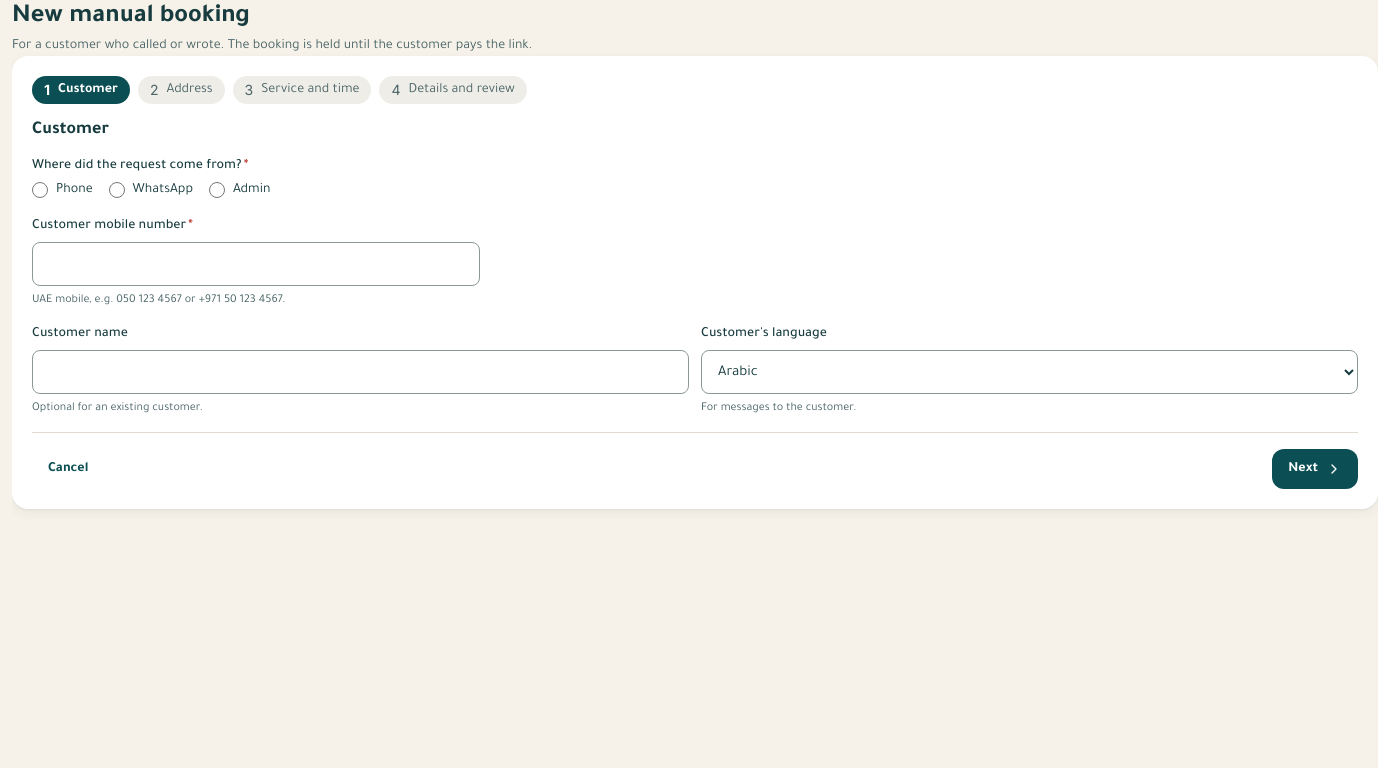
Scenario: A03 manual booking wizard › says so when the lookup stays rate limited after its retries, offers to look up again and holds Next meanwhile
Click the radio button labelled "Phone".
click(40, 190)  # box [32, 182, 48, 198]
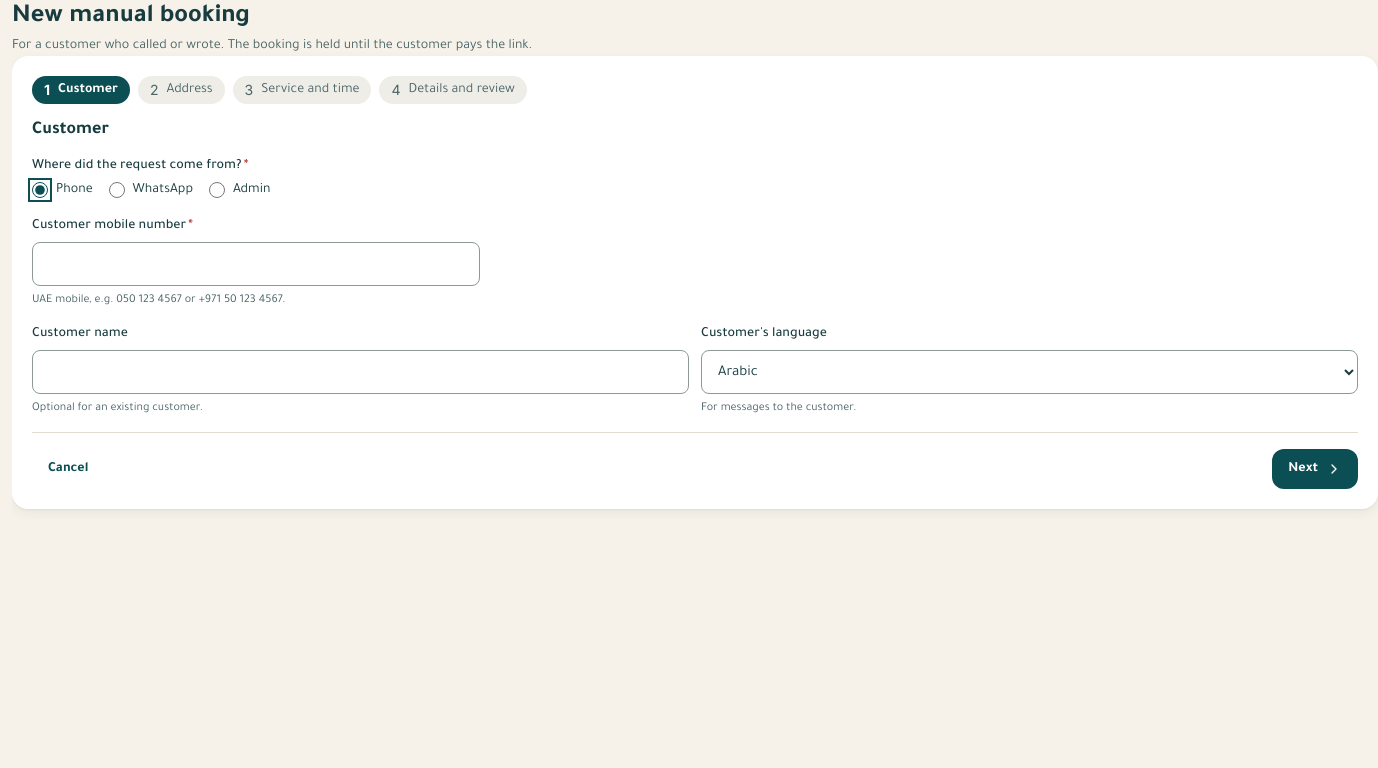
Type "0500000002" into the field labelled "Customer mobile number*".
click(256, 264); type("0500000002")  # box [32, 242, 480, 286]
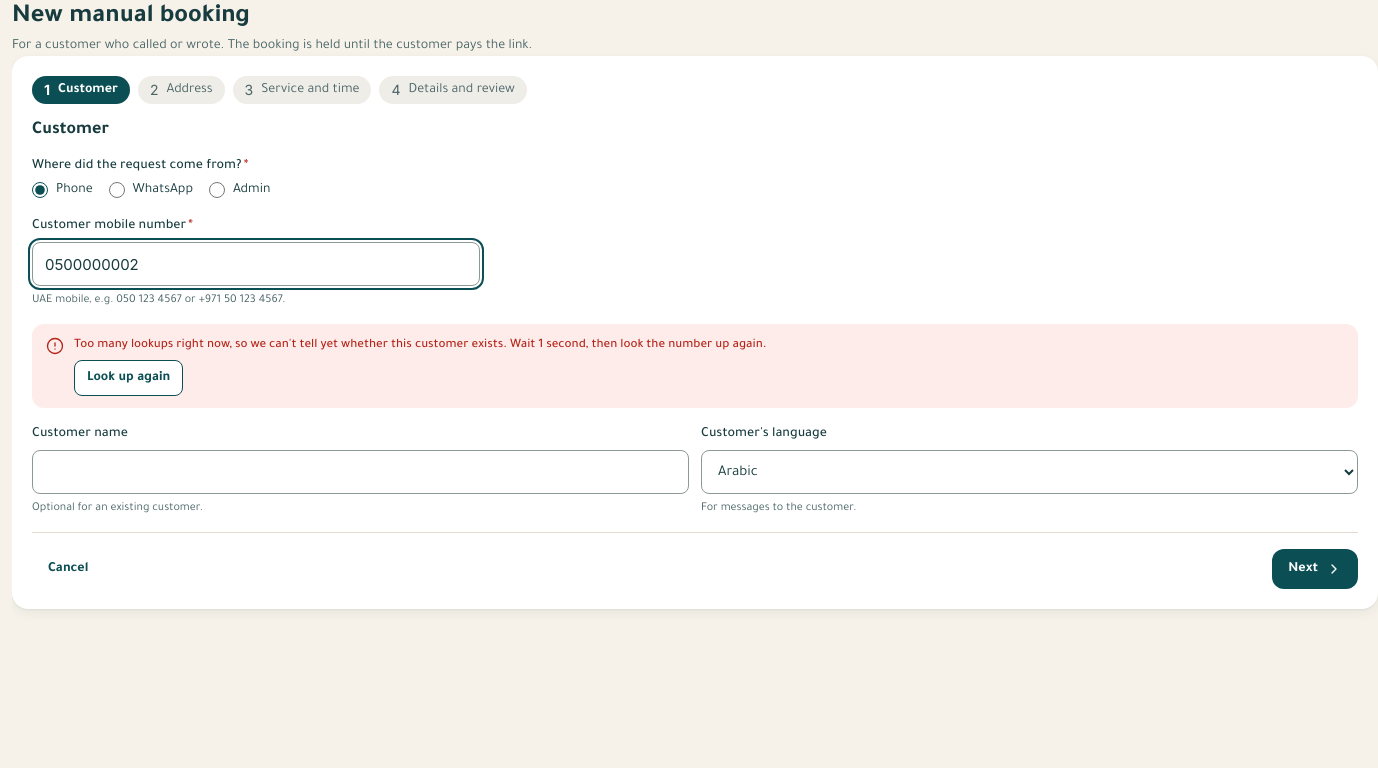
Now the text "Too many lookups right now, so we can't tell yet whether this customer exists. Wait 1 second, then look the number up ag" is shown, box [74, 339, 766, 352]
Not taken for a new customer (whose saved addresses would be typed again): Next stays on this step.
Click the button "Next".
click(1315, 569)  # box [1272, 549, 1358, 589]
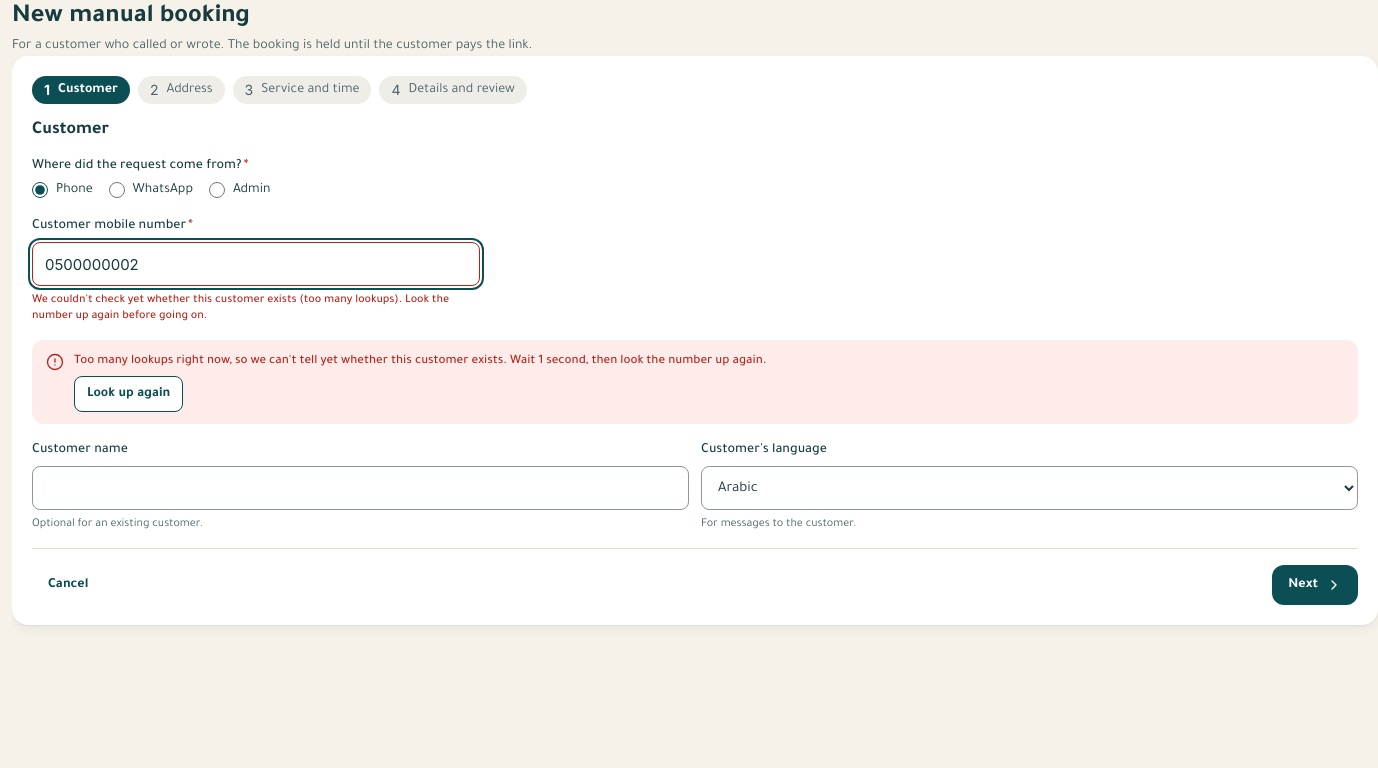
Expected: the heading "Customer" is shown, [32, 121, 109, 139]
Click the button "Look up again".
click(129, 394)  # box [74, 376, 183, 412]
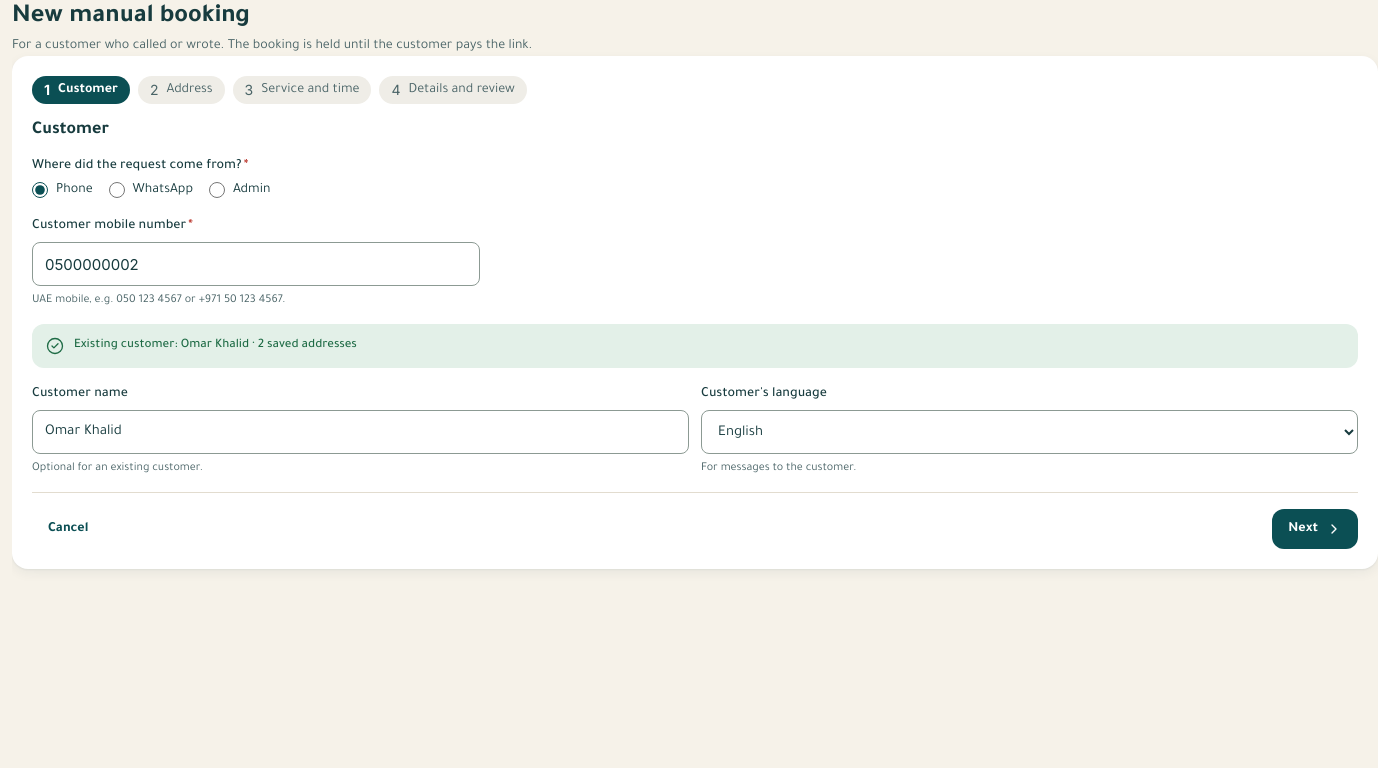
Now the text "Existing customer: Omar Khalid · 2 saved addresses" is shown, box [74, 339, 357, 352]
Click the button "Next".
click(1315, 529)  # box [1272, 509, 1358, 549]
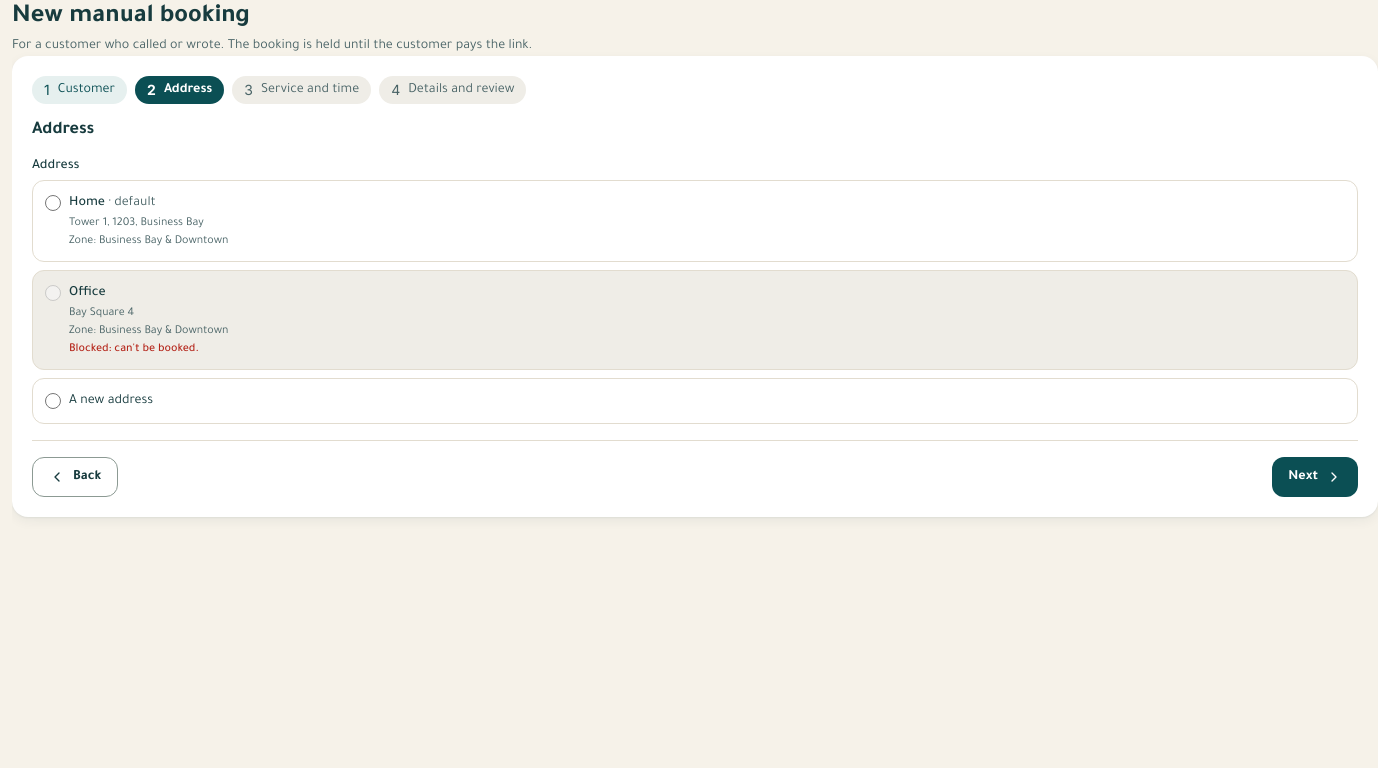
Now the radio button labelled "Home" is shown, box [45, 195, 61, 211]
